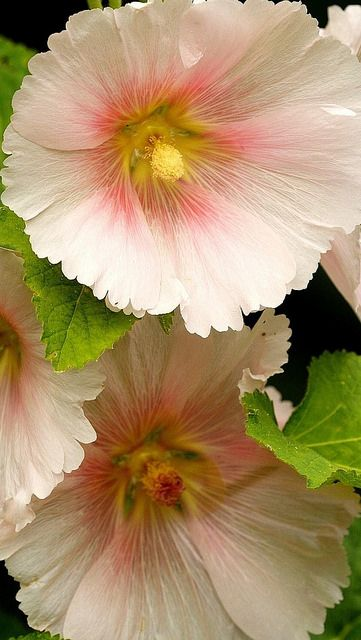Hibiscus: (1, 3, 358, 334), (9, 323, 347, 633), (7, 261, 96, 536)
